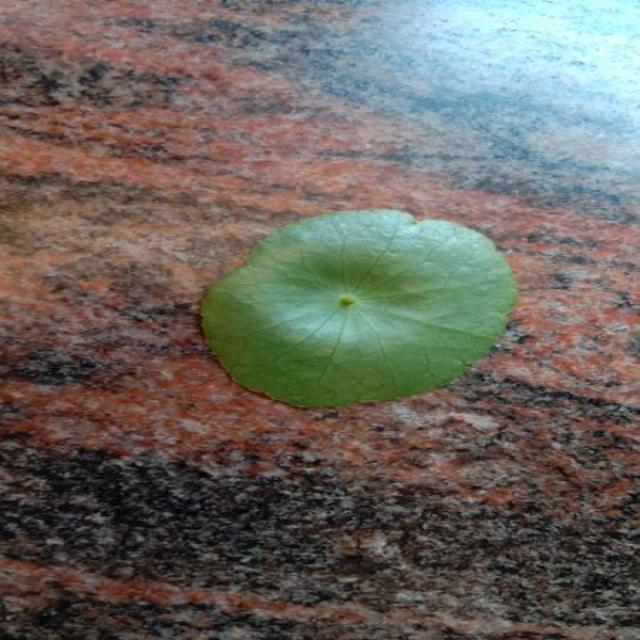bhrami: (202, 210, 517, 406)
